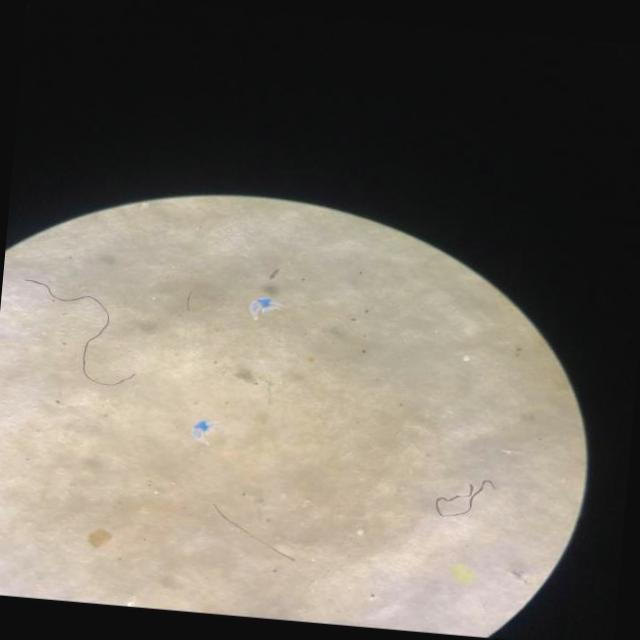fiber: (30, 281, 131, 385), (216, 505, 295, 560), (437, 479, 494, 516)
film: (250, 297, 275, 316), (195, 420, 211, 438)
fragment: (89, 529, 112, 547), (453, 564, 474, 582)
pellet: (463, 355, 470, 360)
